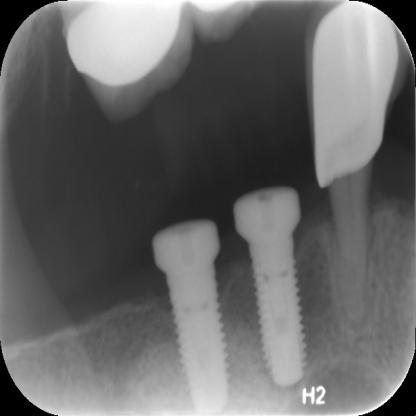Bego: (232, 181, 320, 392), (148, 216, 239, 412)
